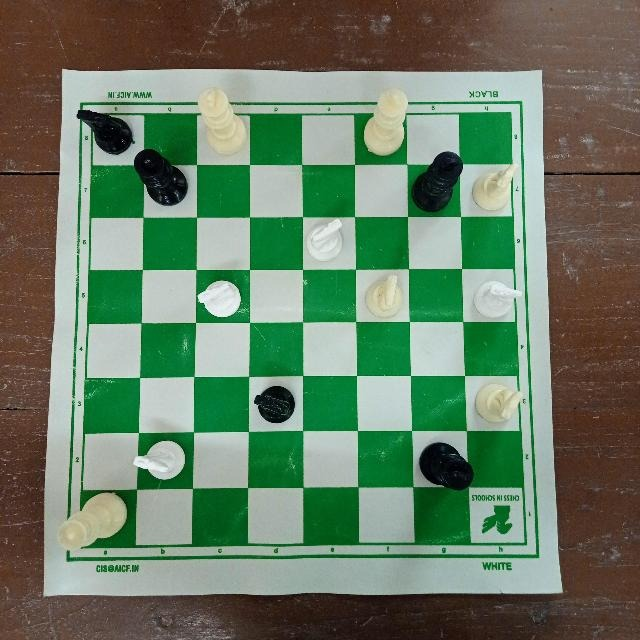black-king: (413, 435, 477, 497), (409, 148, 467, 214), (130, 148, 191, 207)
black-knight: (69, 101, 132, 155), (248, 382, 301, 430)
white-king: (360, 80, 415, 159), (193, 84, 249, 158)
white-knight: (471, 162, 525, 217), (356, 271, 409, 323), (131, 437, 190, 481), (469, 276, 527, 320), (473, 380, 527, 427), (302, 213, 349, 266), (195, 275, 245, 319)
white-queen: (55, 489, 132, 551)
